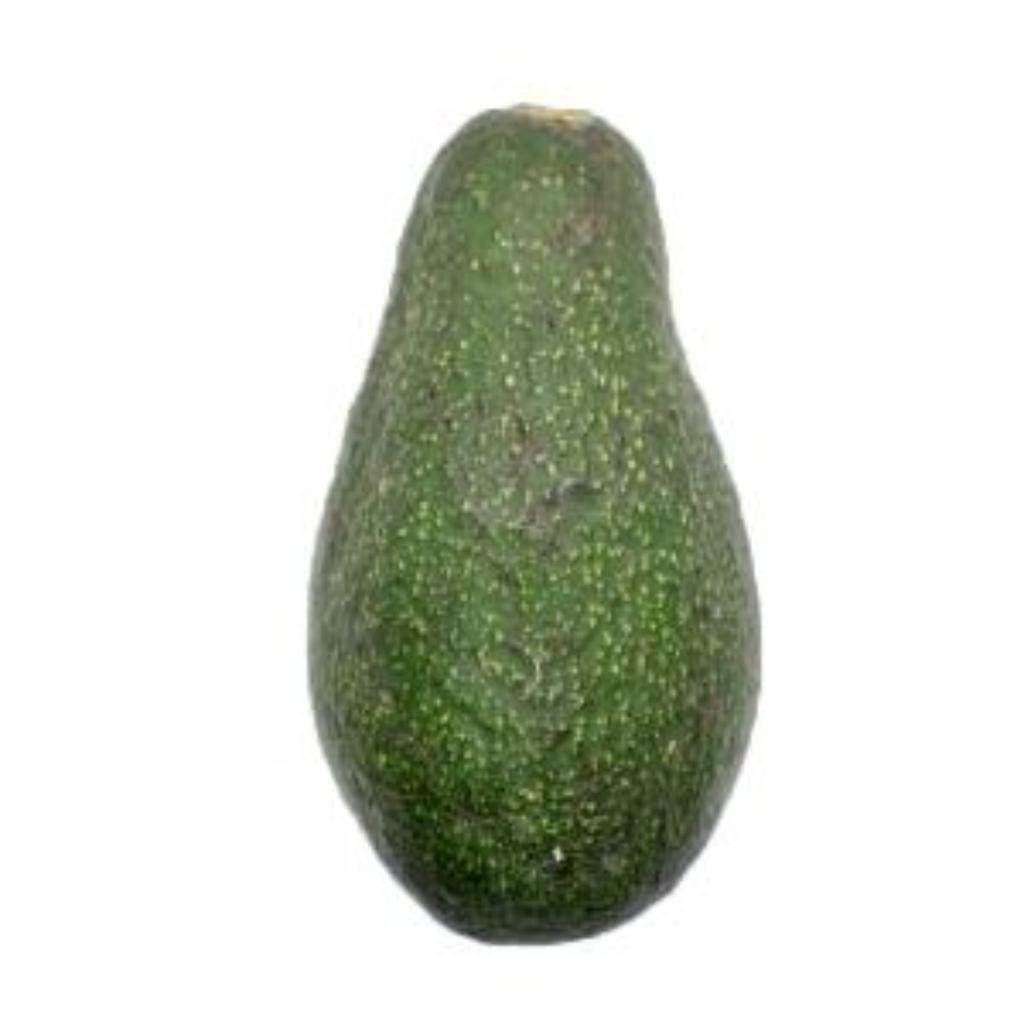cercospora_spot: (290, 106, 786, 942)
